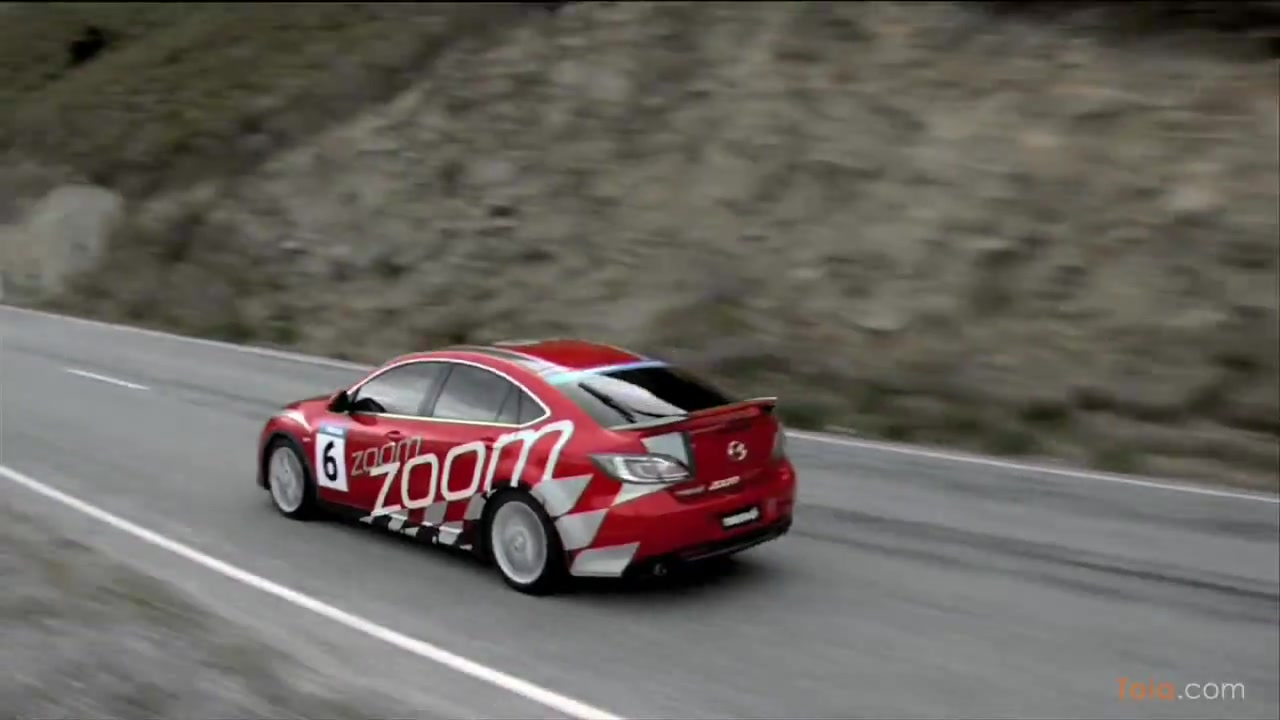car: (255, 321, 796, 602)
